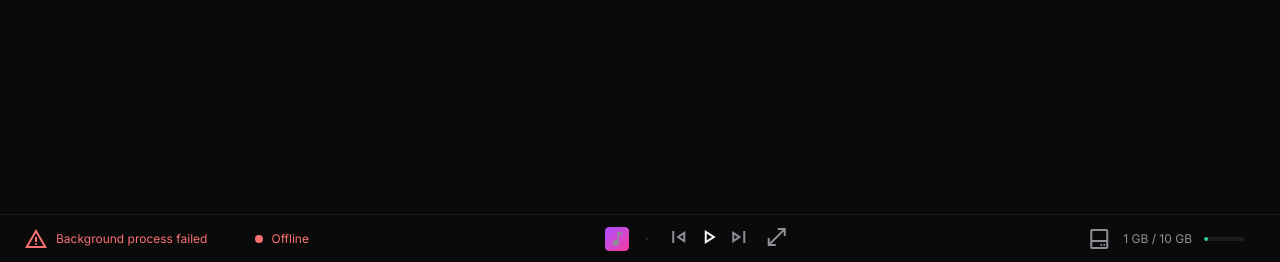
Test: StatusBar (FE-7 fake telemetry removal) › drives the sync error state from a real failed sync task with its real message
Open the sync popover: the real error message is shown, not an invented one
Click the button with class "sync-status". click: click(116, 238)
box: [12, 222, 220, 254]
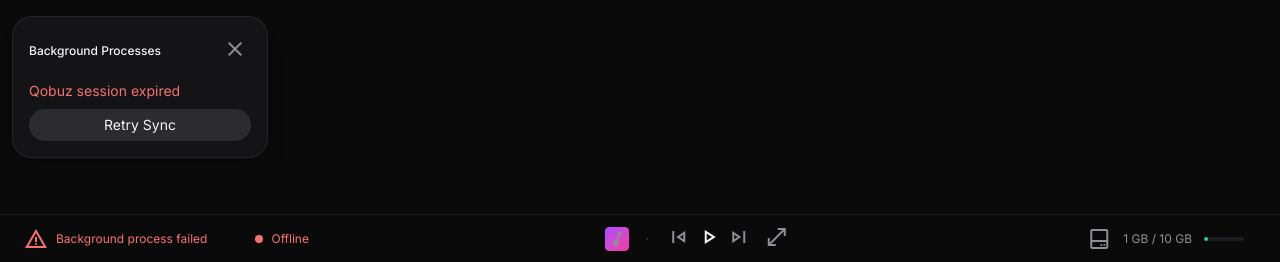
Expected: the text "Qobuz session expired" is shown, [29, 82, 180, 99]
